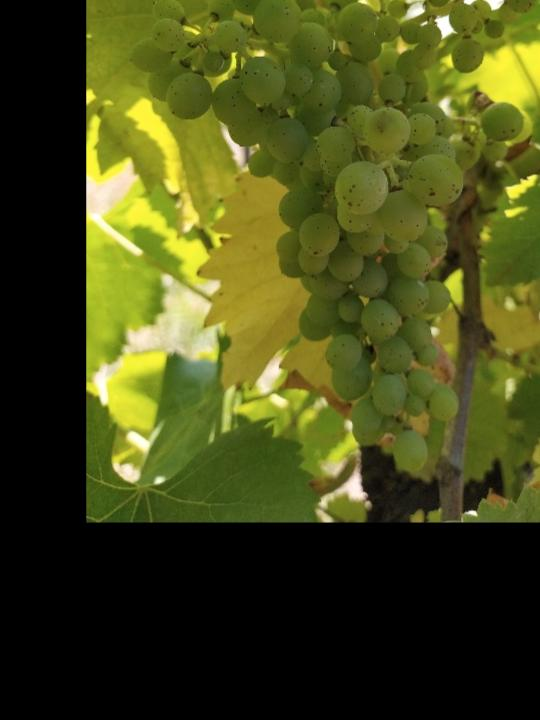grape: (124, 0, 540, 475)
